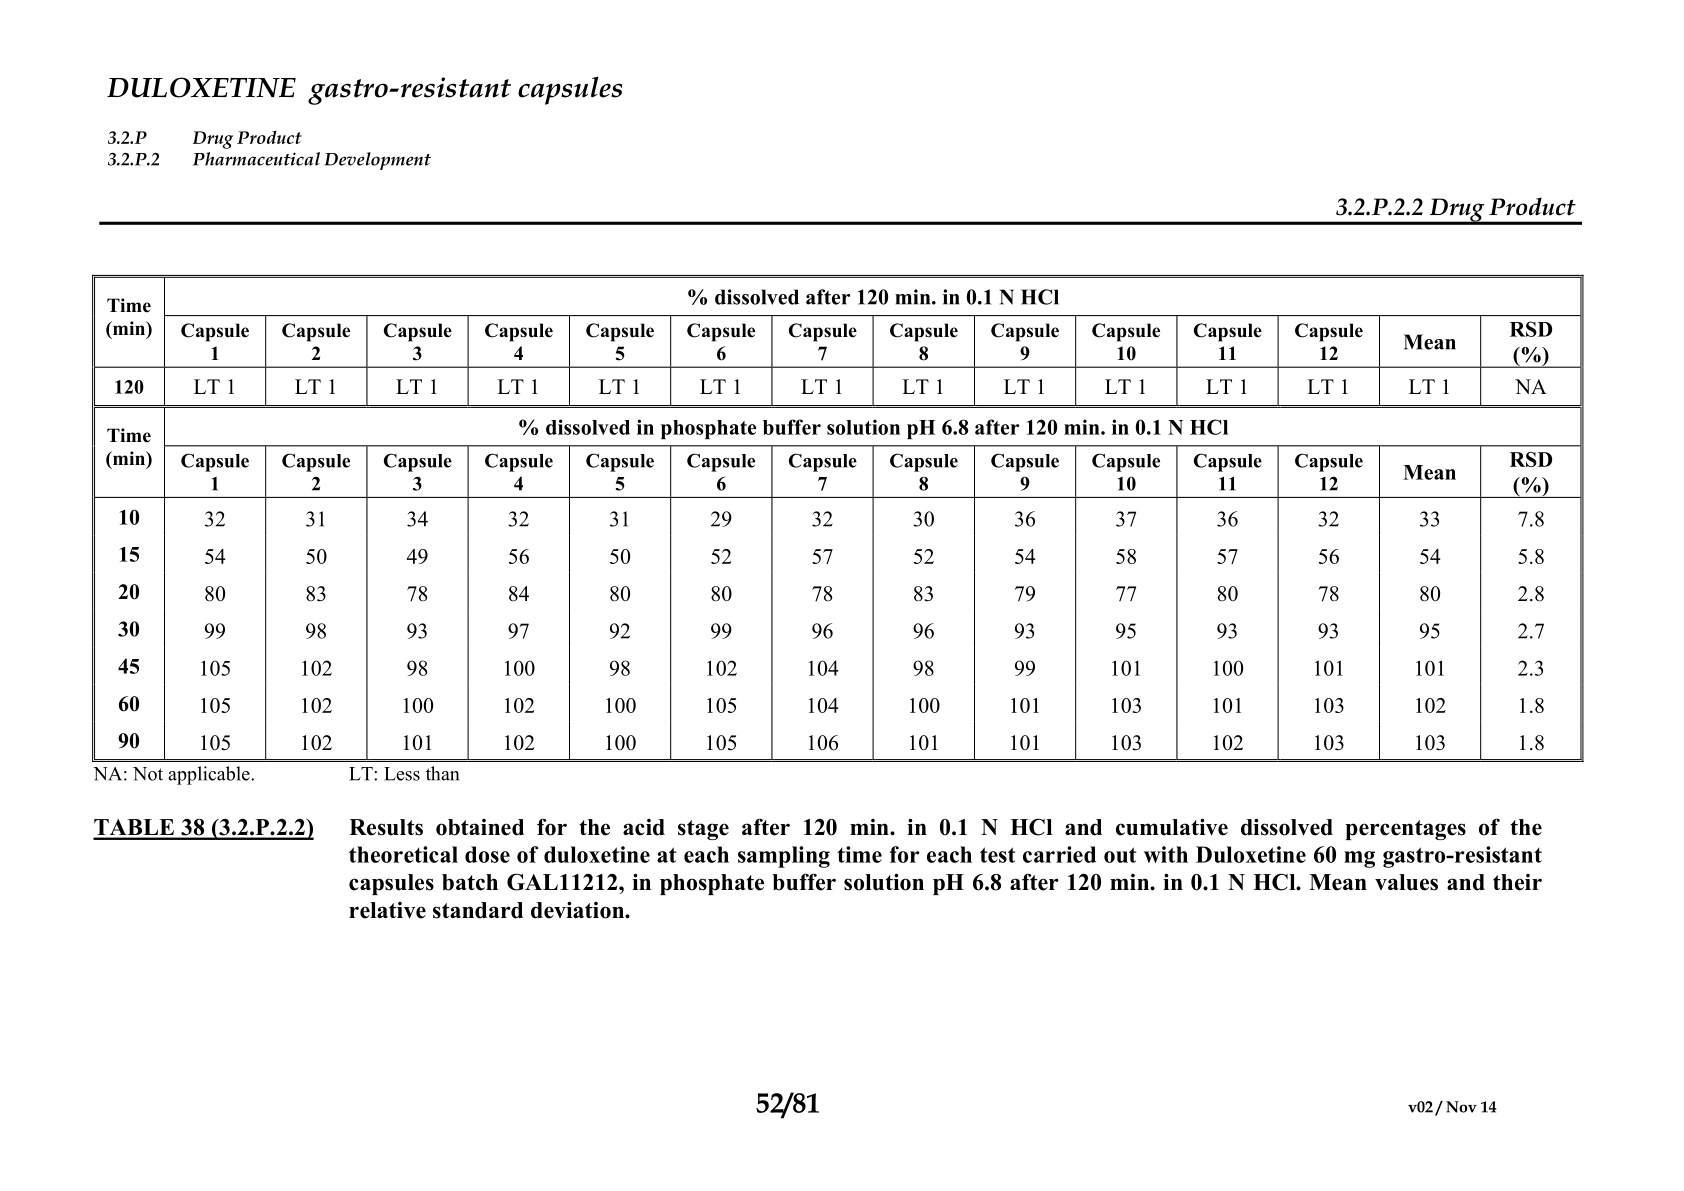merged_cells: (91, 275, 1584, 763)
